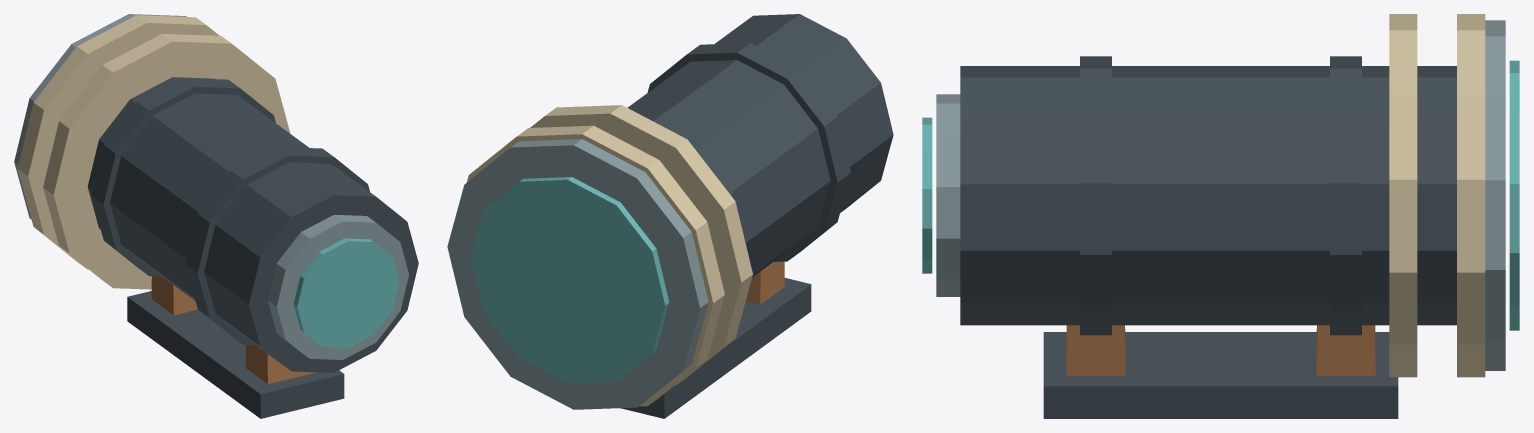
File: AEW_Scope_OwlEye.fbx
3 renders of one model, left to right at view 1: azimuth 30°, elevation 25°; view 2: azimuth 150°, elevation 25°; view 3: azimuth 270°, elevation 25°, orthographic. The views are drawn at different scales.
Parts seen in each view (by area): view 1: AEW_Scope_OwlEye; view 2: AEW_Scope_OwlEye; view 3: AEW_Scope_OwlEye.
Part boxes in pixels (left/top/right/bottom): AEW_Scope_OwlEye: left=14, top=14, right=418, bottom=418; AEW_Scope_OwlEye: left=447, top=14, right=893, bottom=418; AEW_Scope_OwlEye: left=922, top=14, right=1519, bottom=418.
Size of the model in its own units: 0.182 by 0.199 by 0.298.
